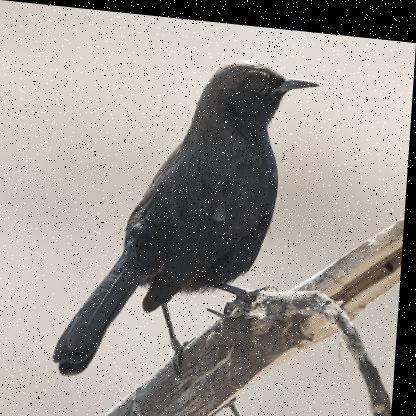Burung: (56, 42, 320, 394)
